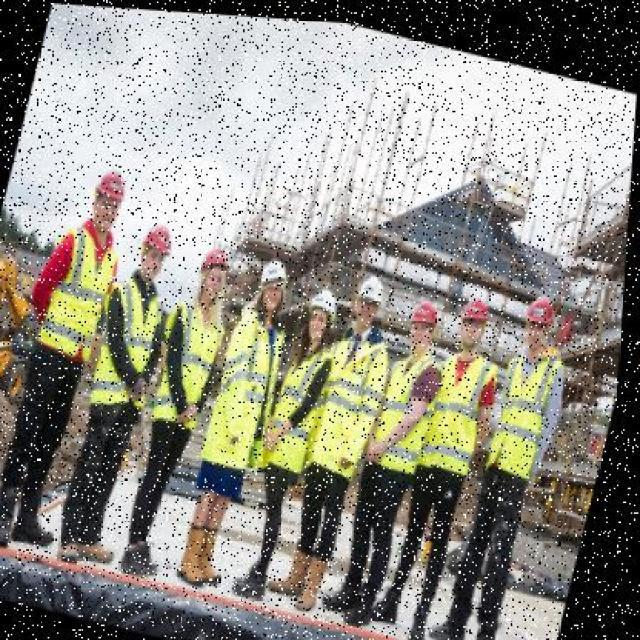helmet: (459, 271, 508, 329), (93, 162, 140, 212), (517, 285, 565, 331), (257, 248, 297, 294), (140, 215, 179, 259), (405, 286, 449, 325), (352, 265, 392, 305), (199, 242, 235, 284), (308, 282, 342, 319)
vest: (200, 292, 299, 483), (303, 306, 401, 484), (91, 248, 184, 416), (37, 213, 131, 376), (480, 323, 578, 479), (365, 323, 453, 485), (417, 326, 509, 478), (148, 283, 236, 437), (265, 325, 345, 477)
